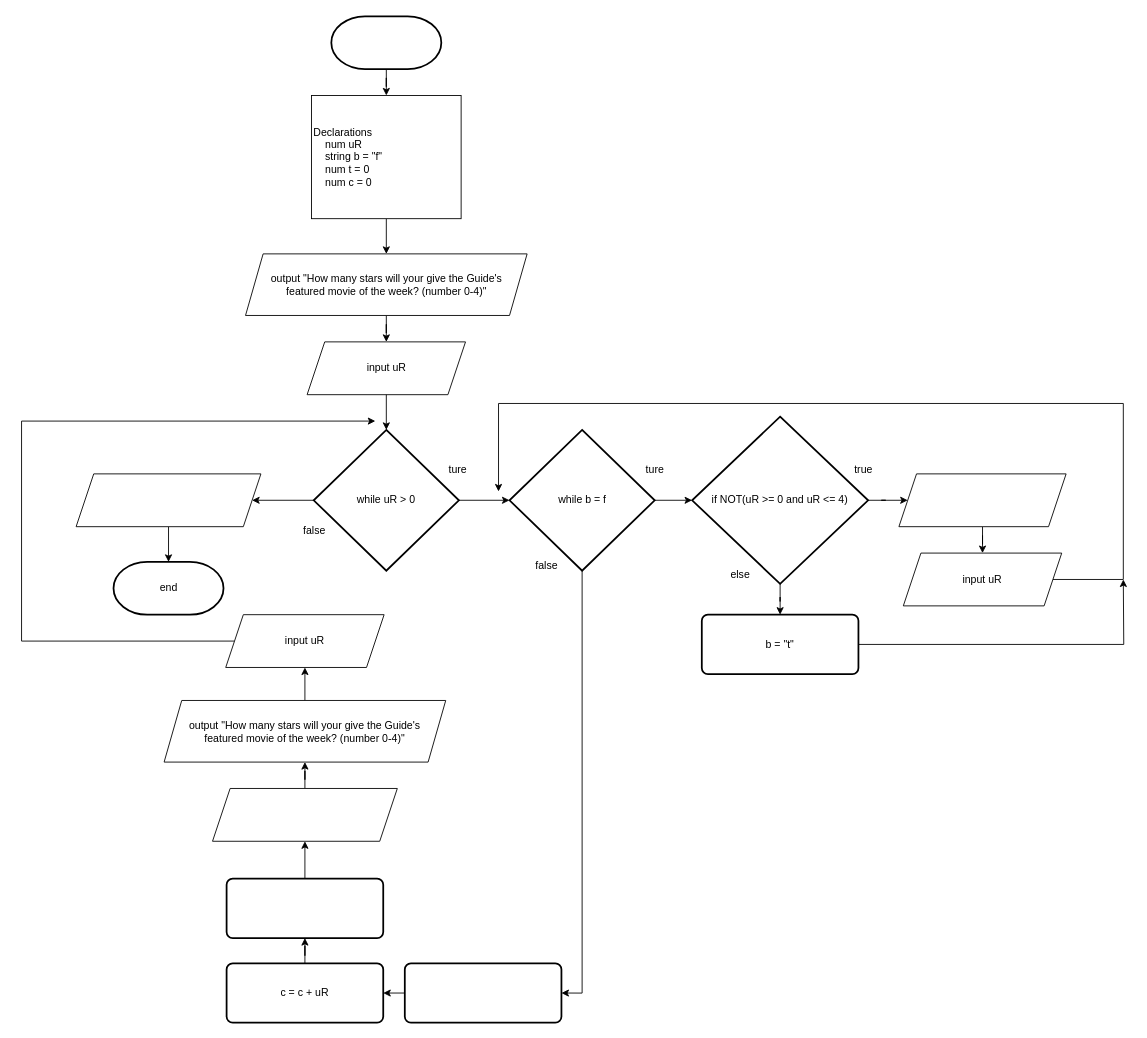
Image size: 1147x1038. Some labels were removed from this diagram. The centre of each missing label's shape, as x and y in pixels:
b = "f": pixel 482 992
output "Not valid input, has to be a number 0-4": pixel 982 500
output "Thanks for your rating!": pixel 304 814
output "The average rating is: " c/t " stars.": pixel 168 500
start: pixel 386 42
t = t + 1: pixel 304 908
